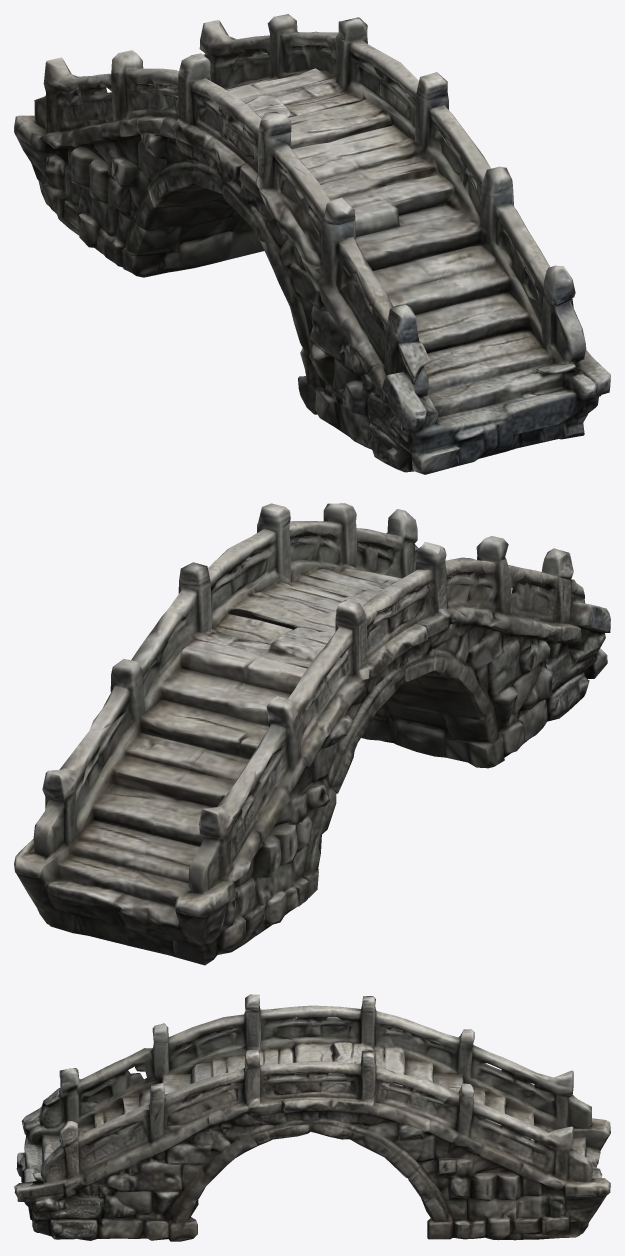
File: bridge-low.glb
3 renders of one model, top to bottom at view 1: azimuth 30°, elevation 25°; view 2: azimuth 150°, elevation 25°; view 3: azimuth 270°, elevation 25°, orthographic. The views are drawn at different scales.
Size of the model in its own units: 0.3 by 0.341 by 0.9982.
Materials: 1 (1 with a texture image).
